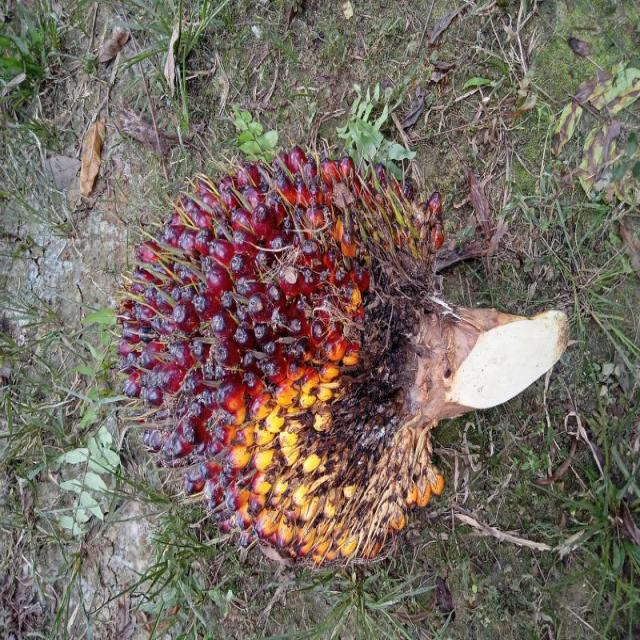fraksi 1: (77, 87, 561, 600)
